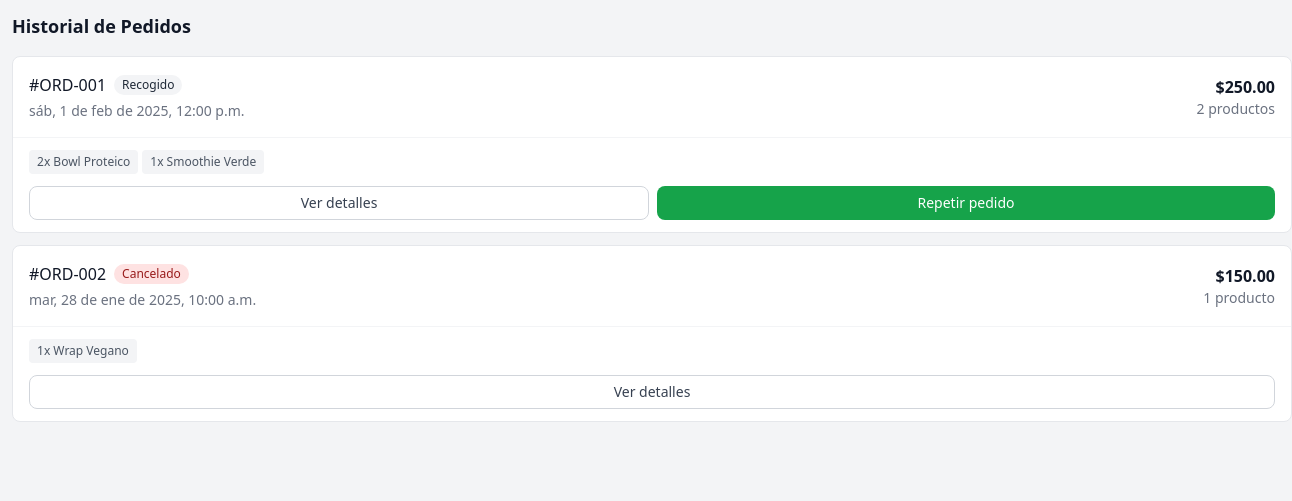
Test: OrderHistory › Order Actions › should show success message after repeat order
Click the button "Repetir pedido": [966, 203] box [657,186,1275,220]
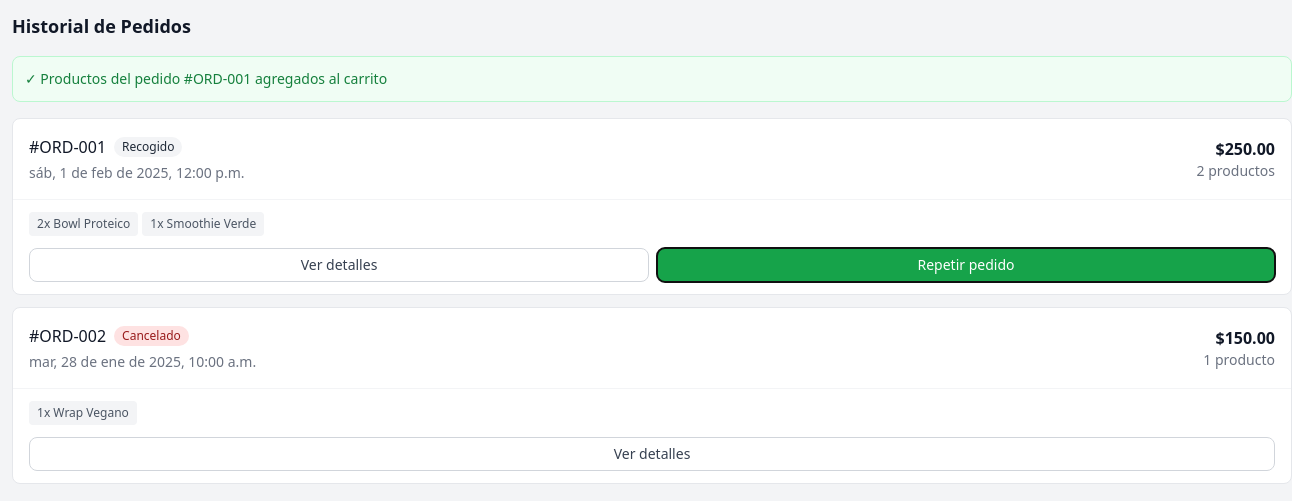
Now the text "✓ Productos del pedido #ORD-001 agregados al carrito" is shown, box [12,56,1291,102]
